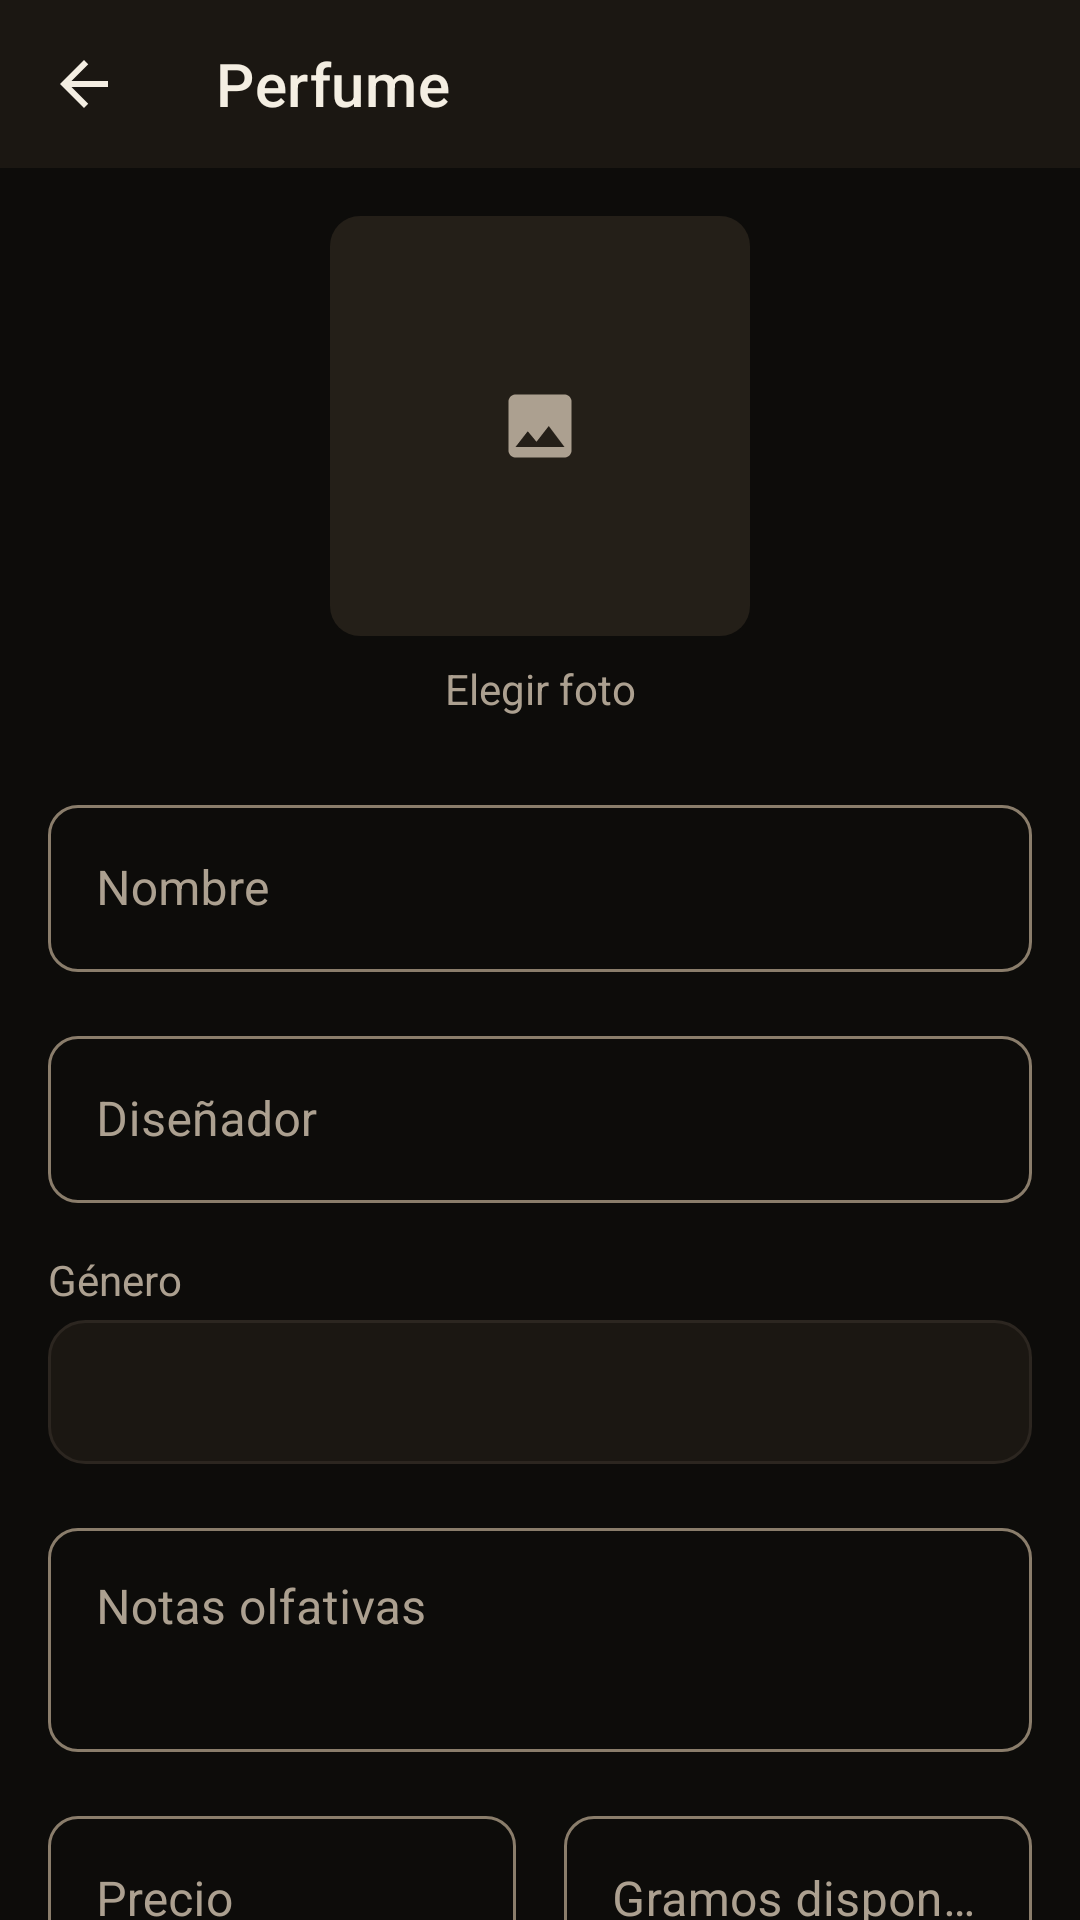

Icon bounding boxes for this 1080 x 1920 phone screenshot, format bbox(x1, y1, x2, y2):
photo: bbox(508, 394, 572, 458)
